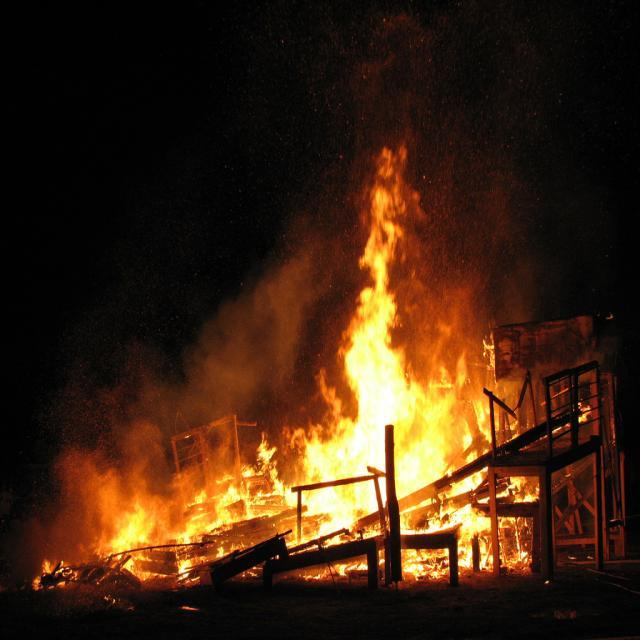Fire: (344, 305, 414, 535), (424, 368, 506, 562), (191, 464, 341, 534), (104, 498, 165, 568)
